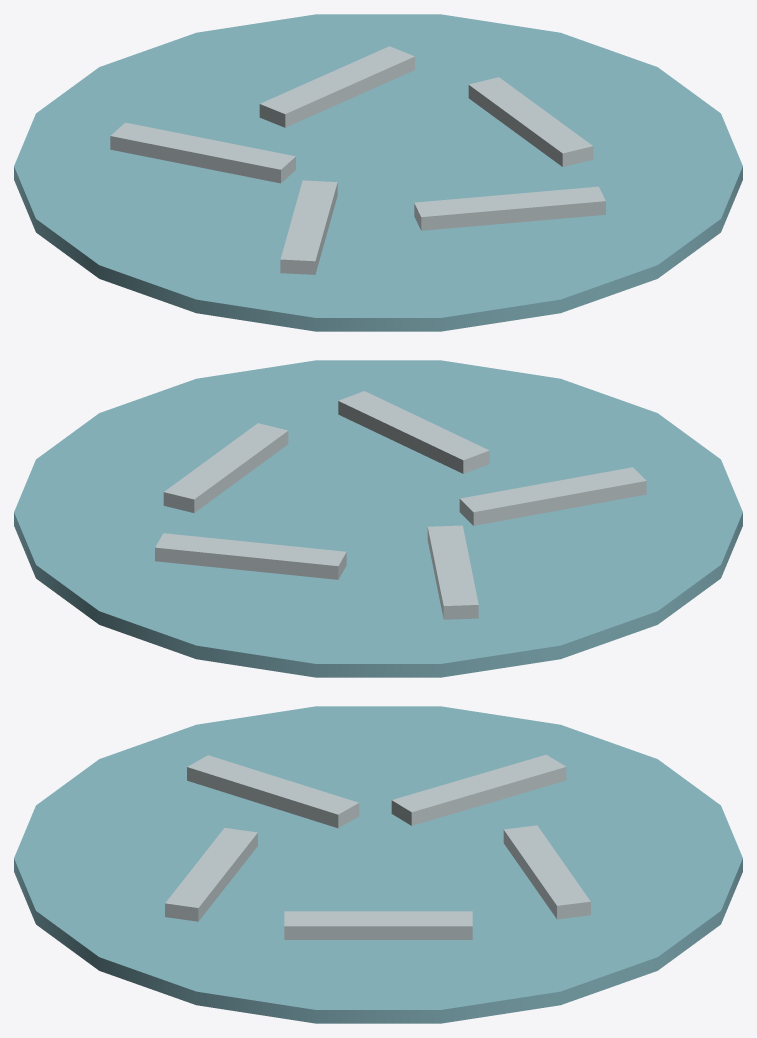
Rendered from ground-decal.glb.
3 views of the same model, one above another, from view 1: azimuth 30°, elevation 25°; view 2: azimuth 150°, elevation 25°; view 3: azimuth 270°, elevation 25° (orthographic).
Parts seen in each view (by area): view 1: decal_plate, rune_1, rune_3, rune_4, rune_0, rune_2; view 2: decal_plate, rune_4, rune_2, rune_1, rune_0, rune_3; view 3: decal_plate, rune_0, rune_3, rune_2, rune_1, rune_4.
Part boxes in pixels (bbox=[...]): decal_plate: bbox=[14, 14, 742, 331]; rune_1: bbox=[414, 186, 605, 230]; rune_3: bbox=[110, 122, 295, 183]; rune_4: bbox=[259, 46, 414, 127]; rune_0: bbox=[468, 77, 593, 166]; rune_2: bbox=[280, 180, 337, 274]; decal_plate: bbox=[14, 360, 742, 677]; rune_4: bbox=[155, 533, 346, 579]; rune_2: bbox=[459, 467, 646, 525]; rune_1: bbox=[338, 391, 489, 473]; rune_0: bbox=[163, 423, 288, 512]; rune_3: bbox=[427, 525, 478, 619]; decal_plate: bbox=[14, 706, 742, 1023]; rune_0: bbox=[284, 911, 472, 939]; rune_3: bbox=[391, 754, 566, 825]; rune_2: bbox=[187, 755, 359, 828]; rune_1: bbox=[165, 828, 257, 921]; rune_4: bbox=[503, 825, 590, 919].
Size of what is drawn, in the model's own units: 2.86 by 0.12 by 2.9.
